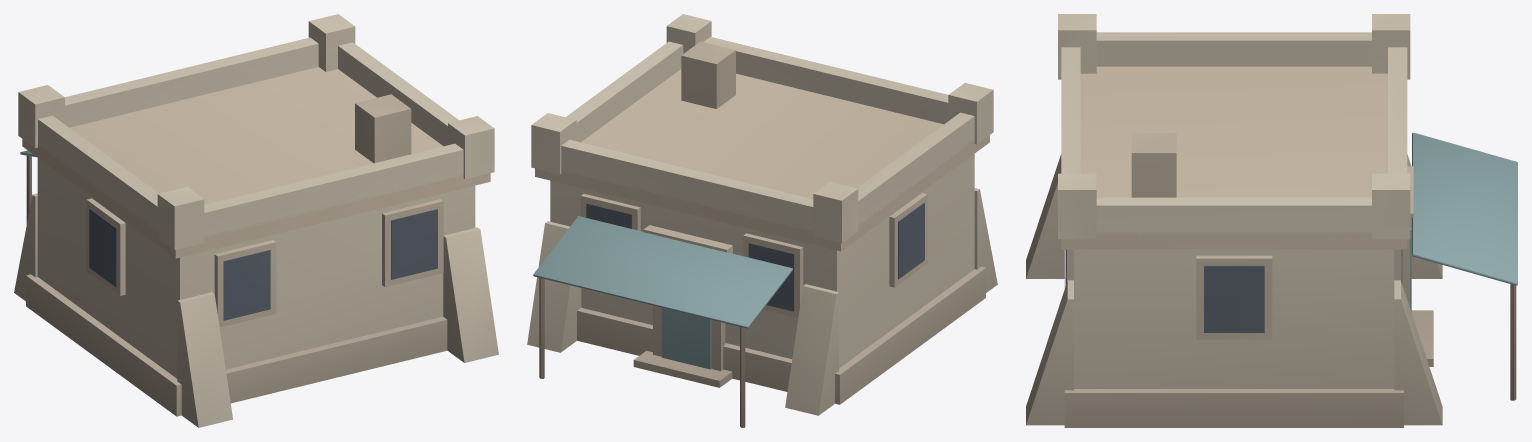
File: cottage_sun.gltf
3 renders of one model, left to right at view 1: azimuth 30°, elevation 25°; view 2: azimuth 150°, elevation 25°; view 3: azimuth 270°, elevation 25°, orthographic. The views are drawn at different scales.
Visible parts, largest first — view 1: Body; view 2: Body; view 3: Body.
Boxes of the visible parts, <box> form: Body: <box>14,14,498,427</box>; Body: <box>527,14,997,427</box>; Body: <box>1026,14,1517,427</box>.
Size of the model in its own units: 6.5 by 4.3 by 7.68.
